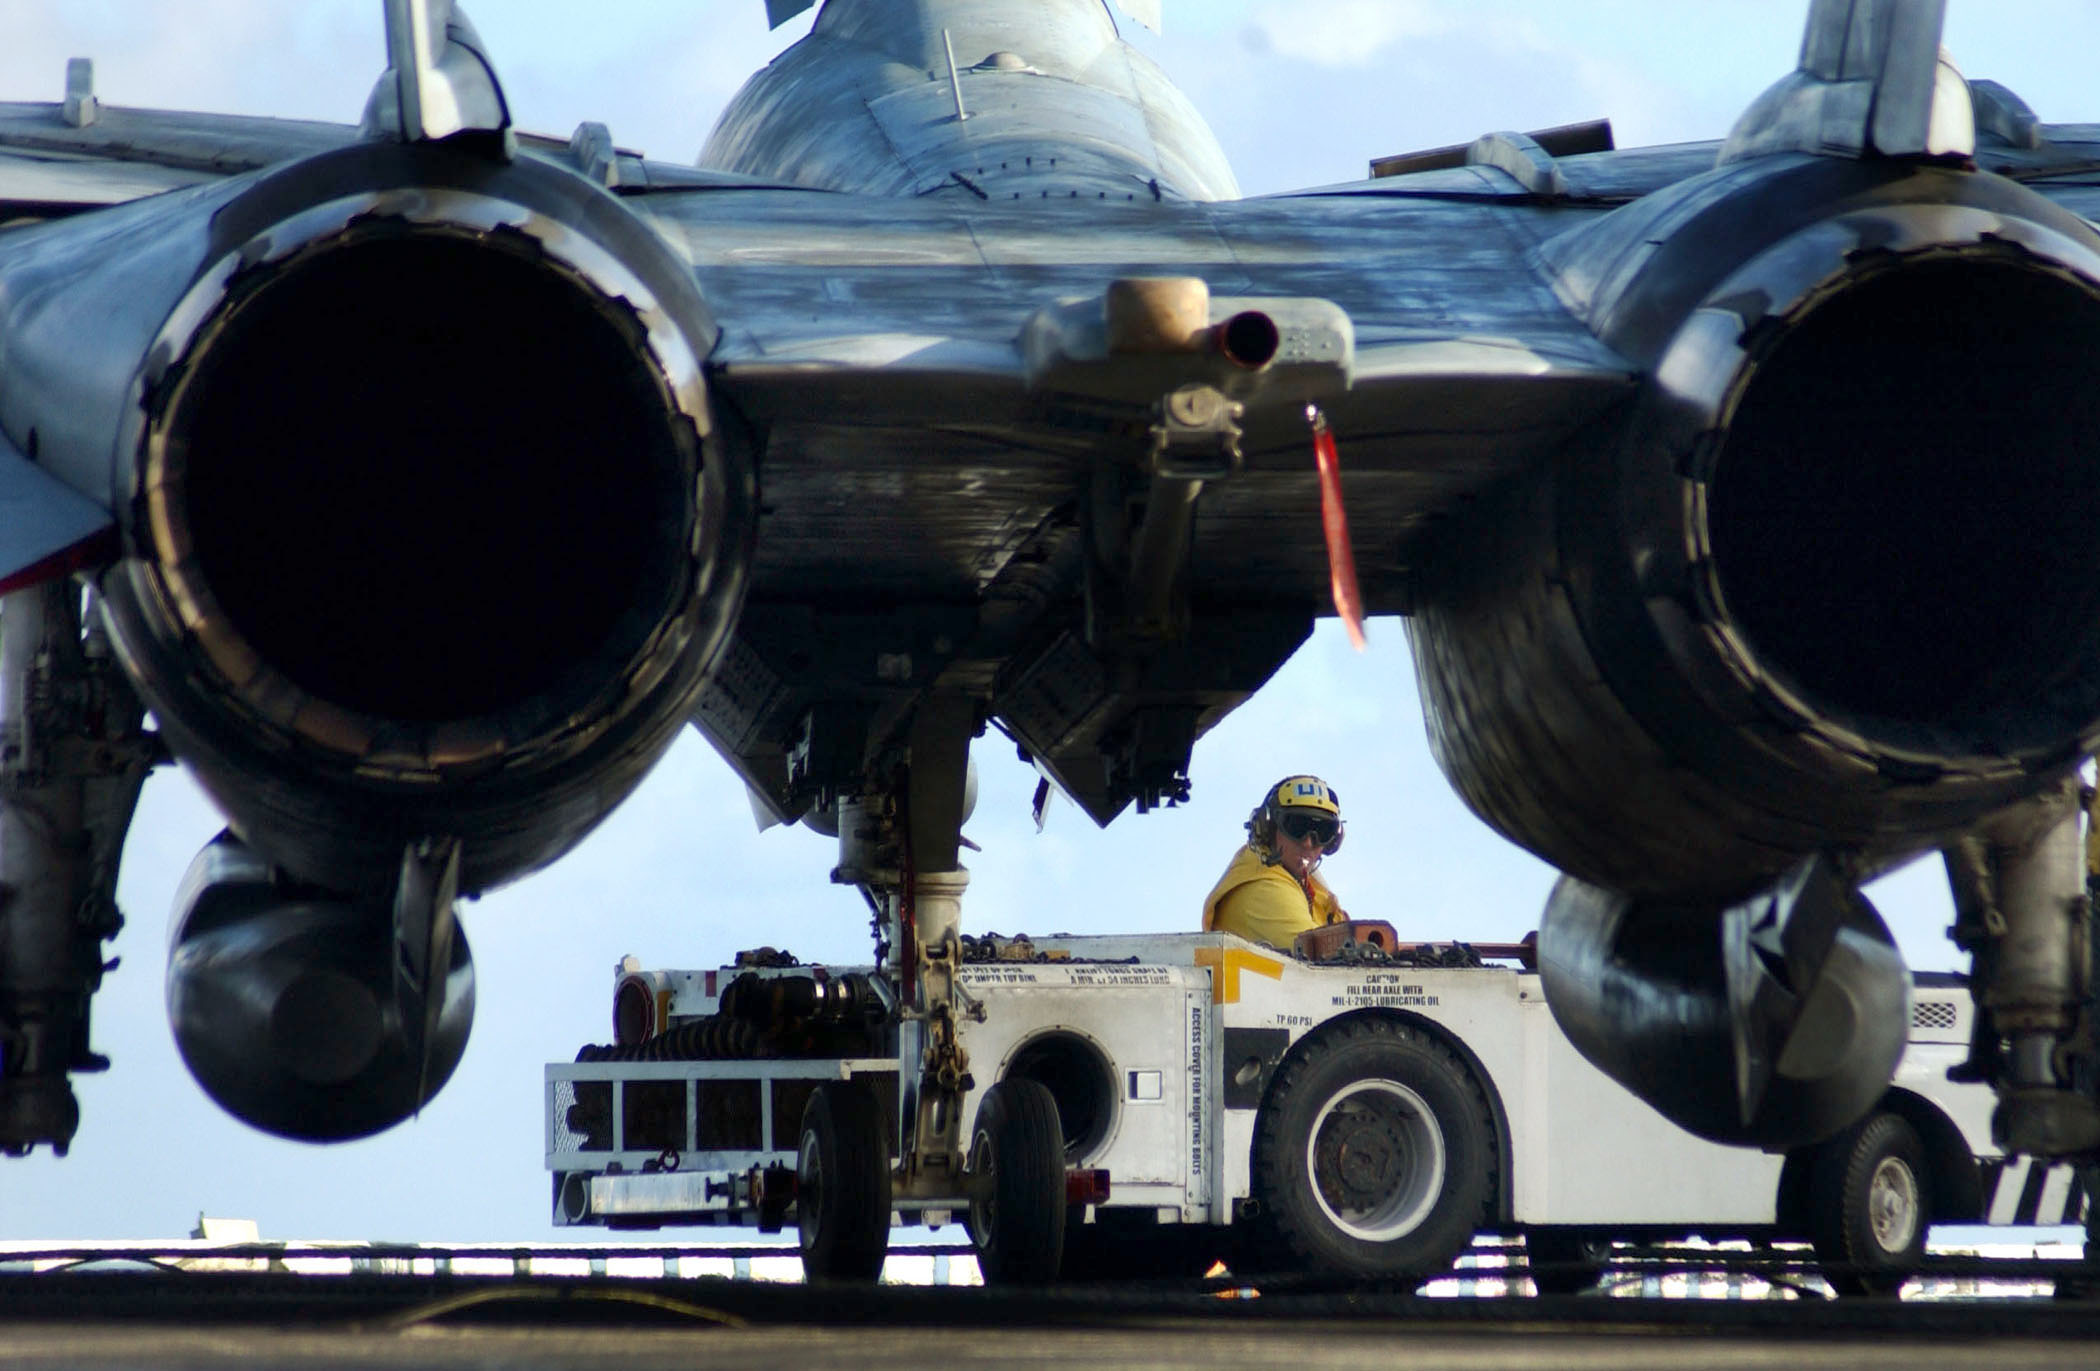F14: (2, 2, 2100, 1285)
